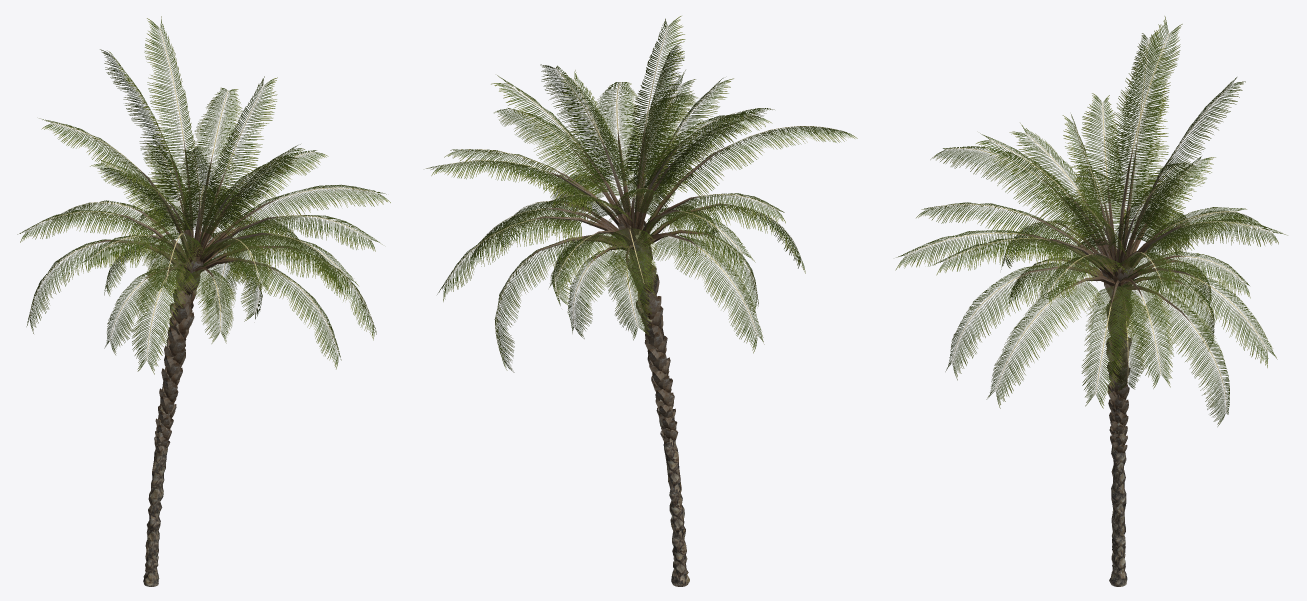
3 renders of one model, left to right at view 1: azimuth 30°, elevation 25°; view 2: azimuth 150°, elevation 25°; view 3: azimuth 270°, elevation 25°, orthographic. The views are drawn at different scales.
Parts seen in each view (by area): view 1: Tree_1, Tree_2, Tree_0; view 2: Tree_1, Tree_2, Tree_0; view 3: Tree_1, Tree_2, Tree_0.
Part boxes in pixels (left/top/right/bottom): Tree_1: left=17, top=16, right=390, bottom=374; Tree_2: left=92, top=137, right=300, bottom=453; Tree_0: left=143, top=257, right=192, bottom=586; Tree_1: left=426, top=16, right=857, bottom=372; Tree_2: left=524, top=121, right=734, bottom=443; Tree_0: left=633, top=230, right=689, bottom=586; Tree_1: left=895, top=16, right=1287, bottom=426; Tree_2: left=1015, top=144, right=1196, bottom=452; Tree_0: left=1109, top=271, right=1127, bottom=586.
Size of the model in its own units: 3.53 by 5.7 by 3.74.
Materials: 3 (3 with a texture image).
